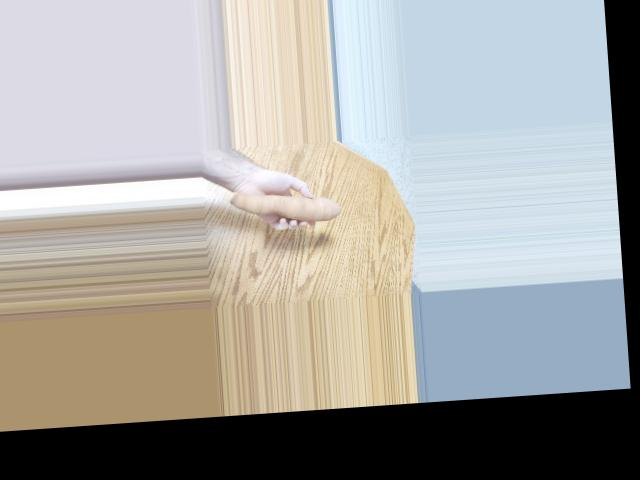sweet_potato: (235, 184, 342, 234)
